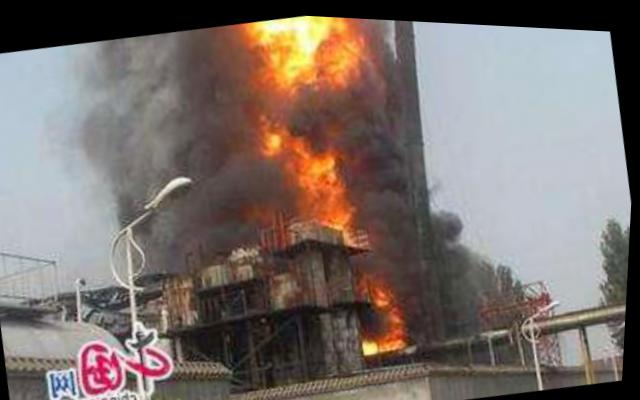fire: (243, 10, 368, 94), (292, 139, 359, 221), (365, 317, 412, 351), (263, 120, 304, 153), (380, 277, 409, 323)
